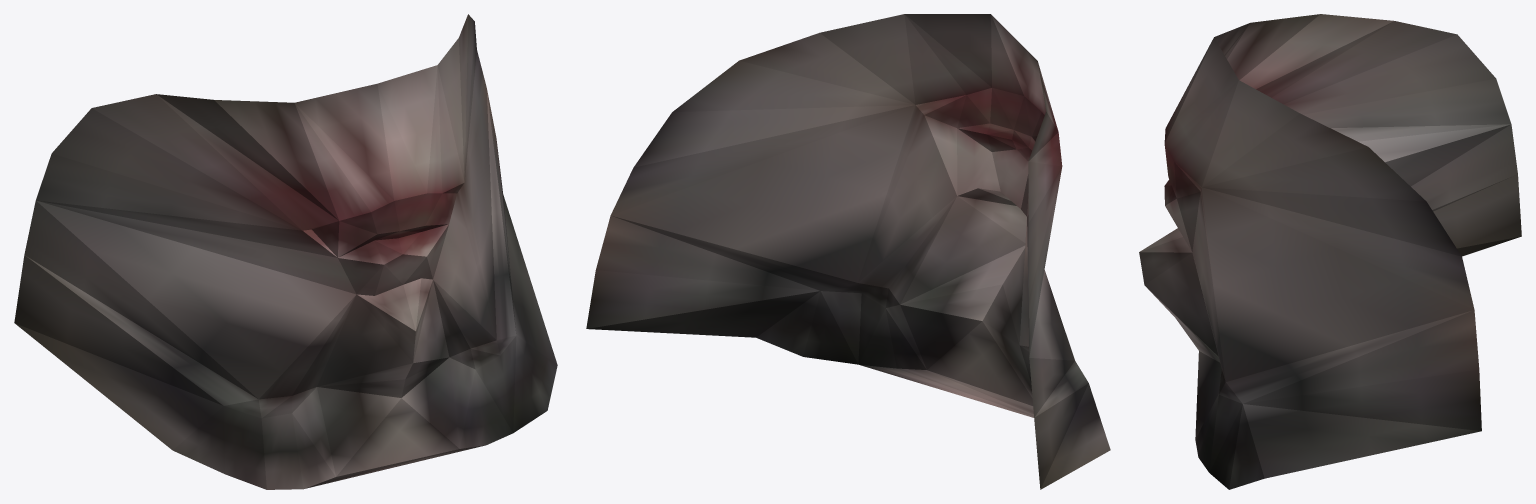
Rendered from real_7327.obj.
The picture shows the model from 3 angles, left to right: view 1: azimuth 30°, elevation 25°; view 2: azimuth 150°, elevation 25°; view 3: azimuth 270°, elevation 25°; orthographic projection. The views are drawn at different scales.
Bounding box in the file's own units: 116 × 92 × 83.89.
